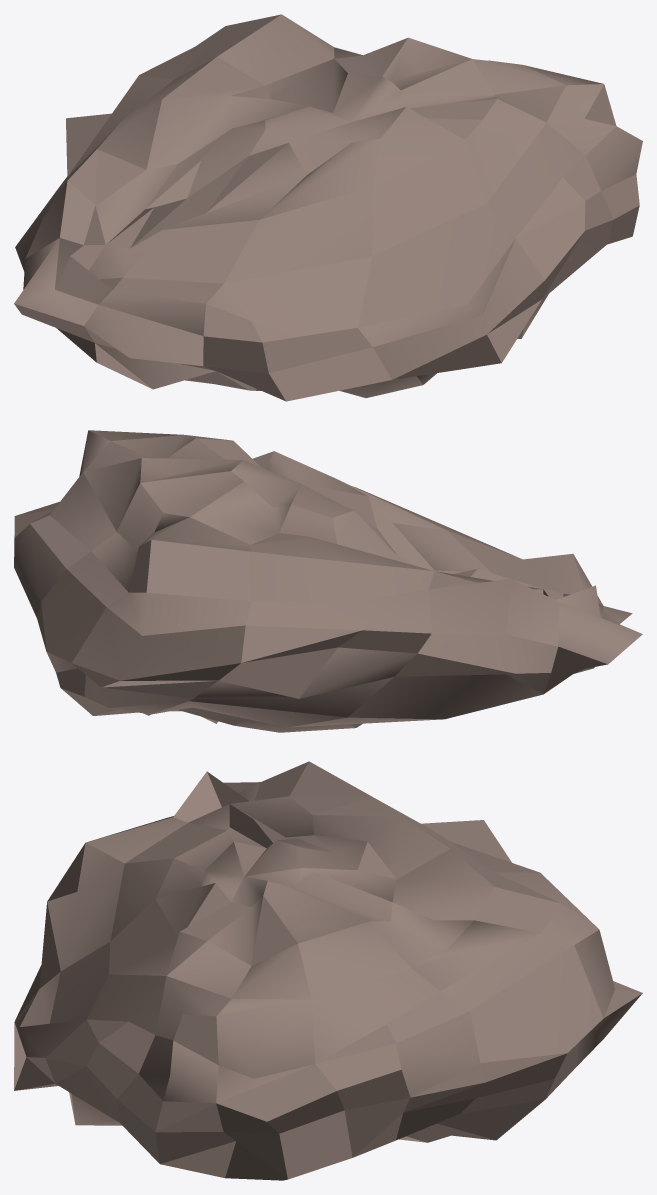
Rendered from rock18.fbx.
The picture shows the model from 3 angles, top to bottom: view 1: azimuth 30°, elevation 25°; view 2: azimuth 150°, elevation 25°; view 3: azimuth 270°, elevation 25°; orthographic projection. The views are drawn at different scales.
Visible parts, largest first — view 1: rock18; view 2: rock18; view 3: rock18.
Boxes of the visible parts, left/top/right/bottom form: rock18: left=14, top=14, right=642, bottom=401; rock18: left=14, top=430, right=642, bottom=732; rock18: left=14, top=761, right=642, bottom=1180.
Bounding box in the file's own units: 8.32 × 3.08 × 6.67.
